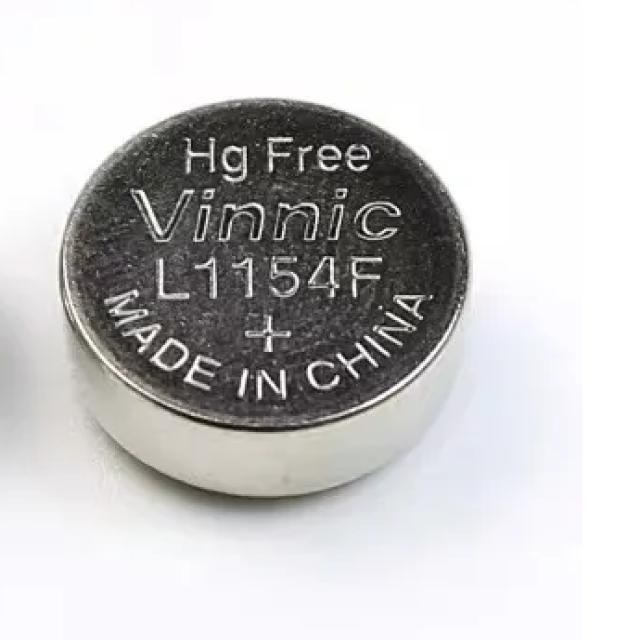COIN: (56, 94, 472, 500)
